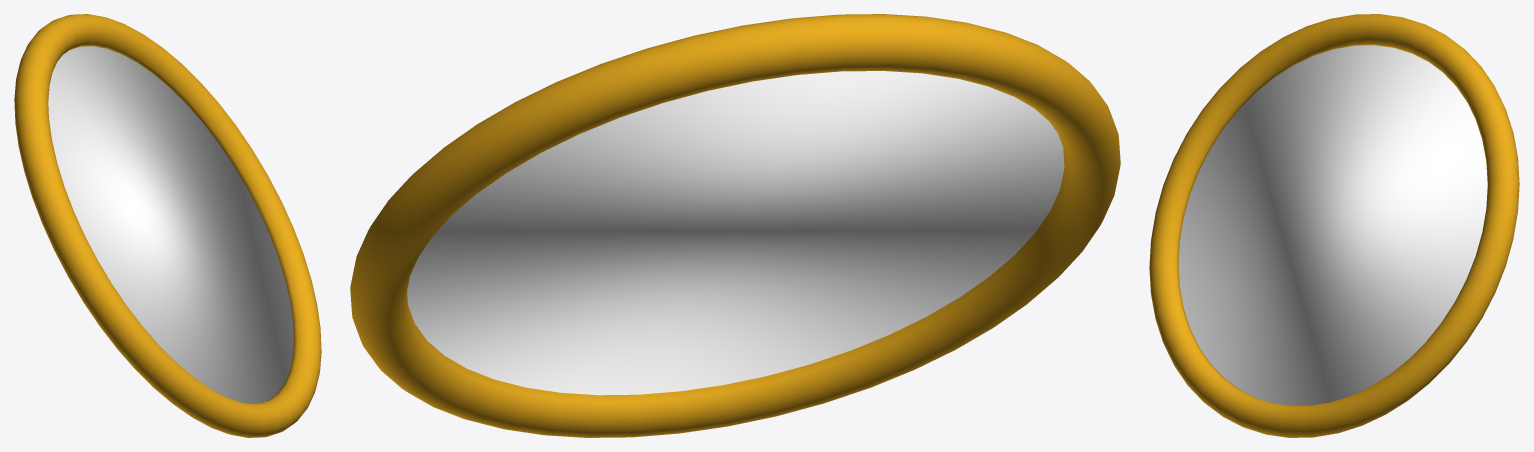
Rendered from portal.glb.
3 renders of one model, left to right at view 1: azimuth 30°, elevation 25°; view 2: azimuth 150°, elevation 25°; view 3: azimuth 270°, elevation 25°, orthographic. The views are drawn at different scales.
Parts seen in each view (by area): view 1: portais_2; view 2: portais_2; view 3: portais_2.
Part boxes in pixels (x1,y1,x2,y2): portais_2: (14, 14, 321, 437); portais_2: (350, 14, 1120, 437); portais_2: (1149, 14, 1519, 437).
Bounding box in the file's own units: 3.98 × 3.93 × 4.01.
